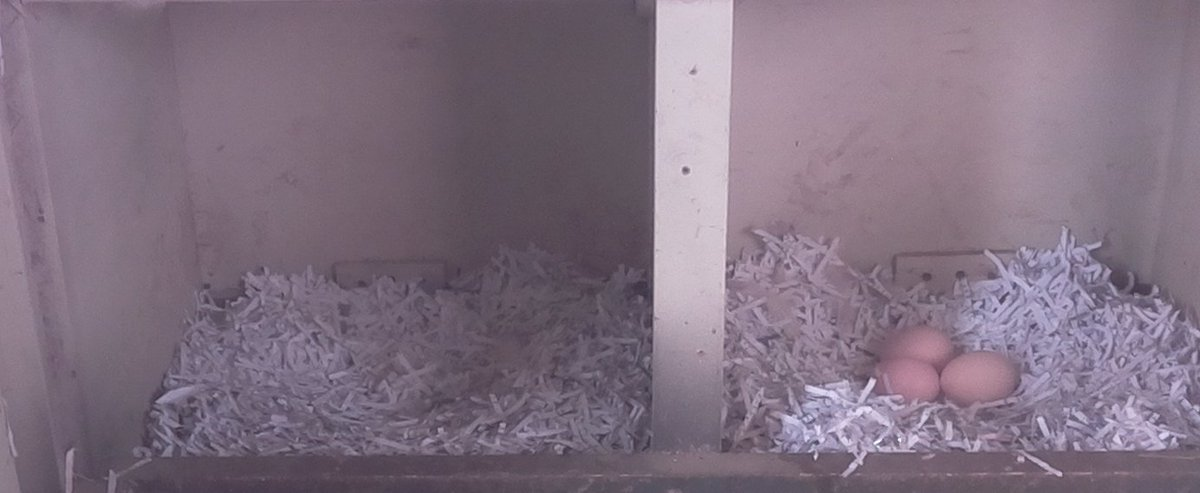egg: (937, 349, 1020, 410), (860, 355, 942, 408), (877, 323, 956, 360)
